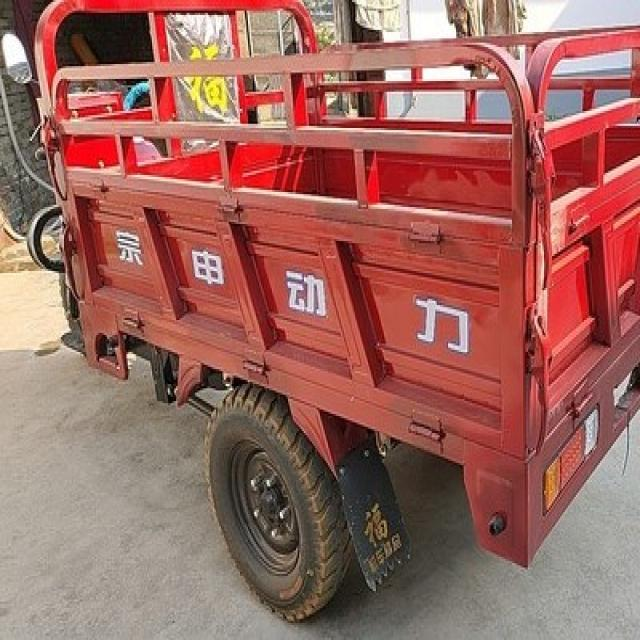tricycle: (0, 0, 638, 616)
